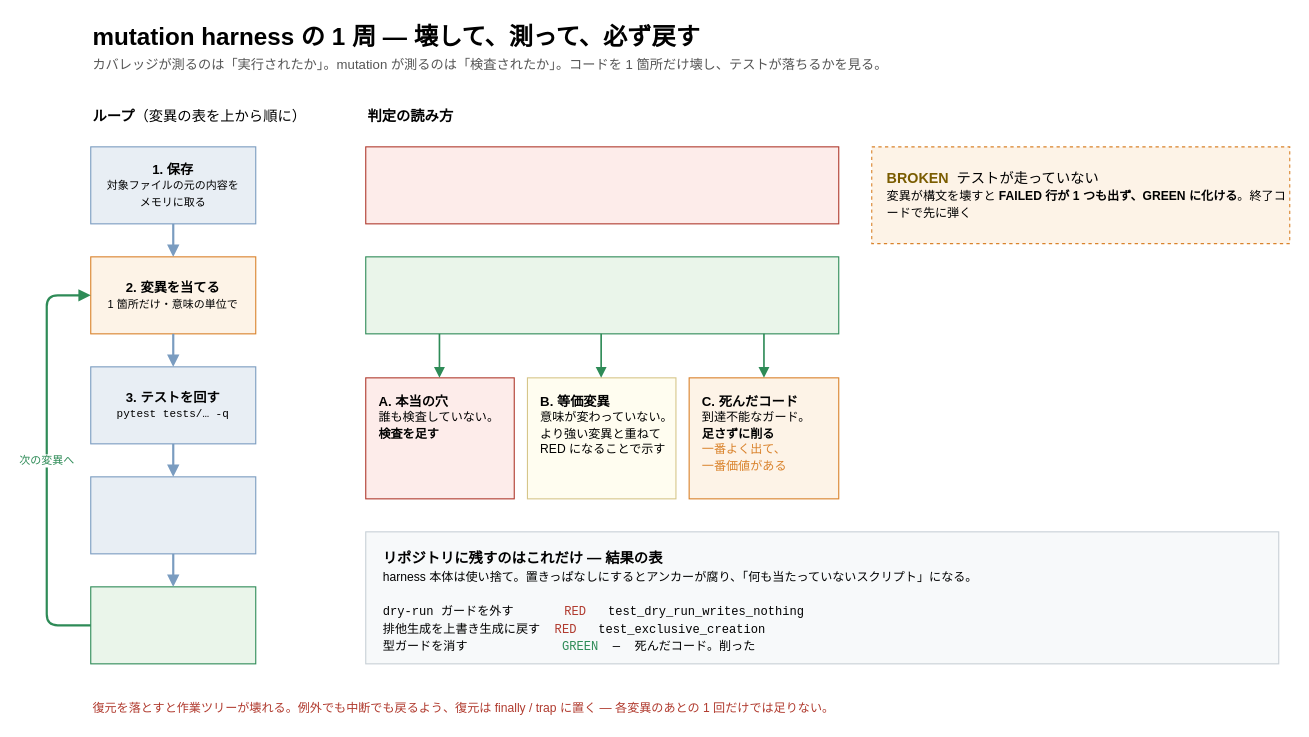
This 1309x737 diagram has some shape labels left out. Each missing label, with the centre of its shape:
"4. 判定を記録 件数ではなく どのテストが落ちたか" goes at [173,515].
"5. 必ず復元 finally: / trap … EXIT" goes at [173,625].
"GREEN 検出できなかった ここで止めない。 必ず 3 つに切り分ける （混ぜると次の人が誤読する）" goes at [602,295].
"RED テストが変異を検出した その検査には 検出力がある 。落ちたテスト名を表に残す" goes at [602,185].
